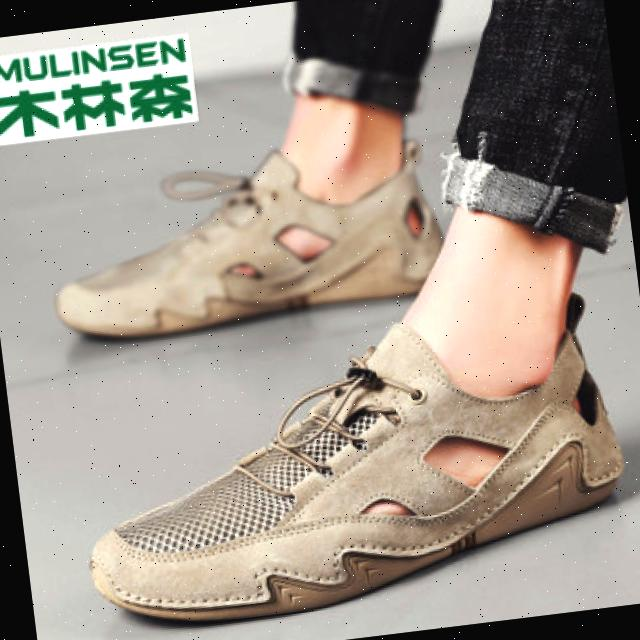no-boots: (54, 311, 640, 633), (32, 148, 460, 368)
